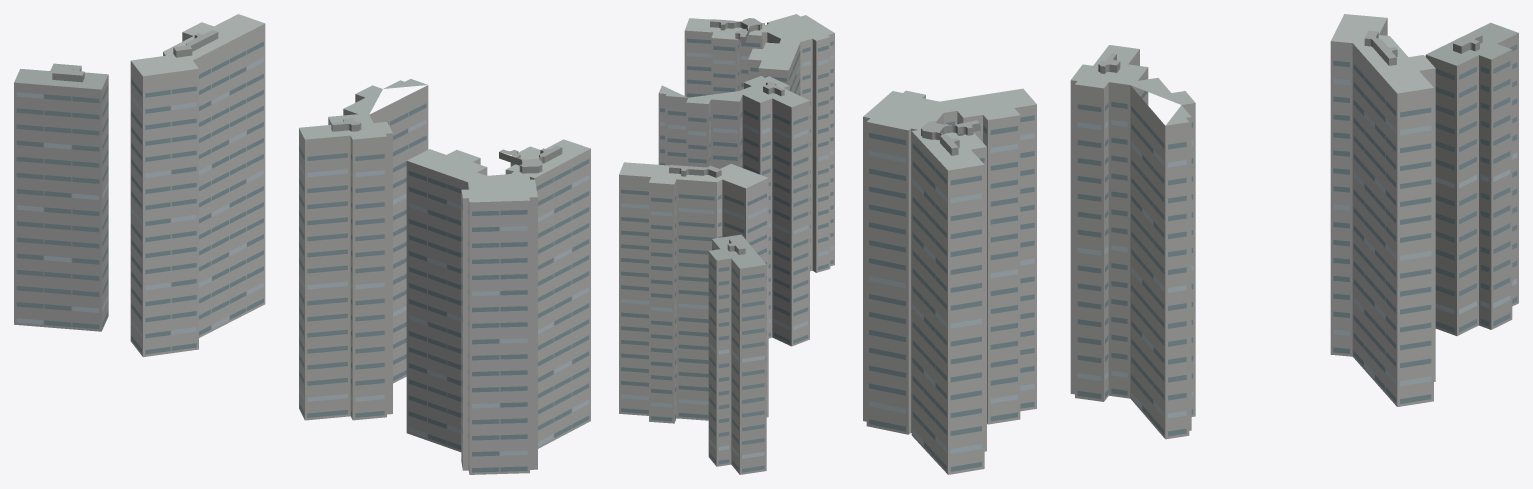
File: apt-a10023673.glb
3 renders of one model, left to right at view 1: azimuth 30°, elevation 25°; view 2: azimuth 150°, elevation 25°; view 3: azimuth 270°, elevation 25°, orthographic. The views are drawn at different scales.
Parts seen in each view (by area): view 1: apt-a10023673; view 2: apt-a10023673; view 3: apt-a10023673.
Part boxes in pixels (bbox=[...]): apt-a10023673: bbox=[14, 14, 590, 474]; apt-a10023673: bbox=[619, 14, 834, 474]; apt-a10023673: bbox=[863, 14, 1518, 474].
Bounding box in the file's own units: 126 × 104 × 193.
